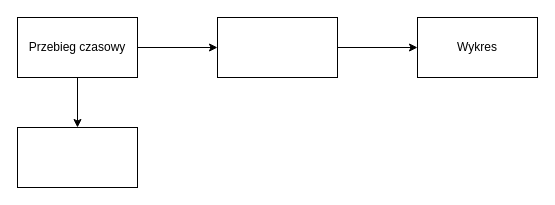
Image size: 555x205. Some labels were removed from this diagram. Each missing label, with the centre of its shape:
Korelacja: point (277, 47)
Wykres przebiegu czasowego: point (77, 157)
